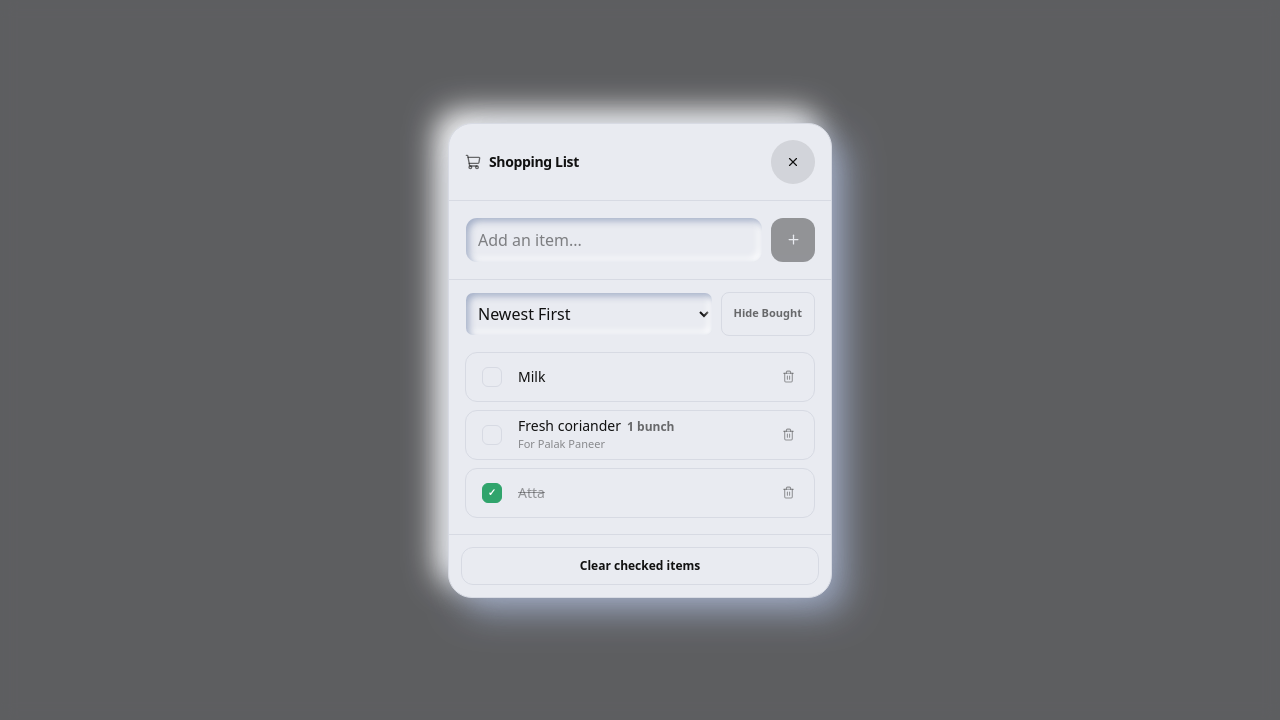
Test: ShoppingListModal — editing › removes an item locally and by id
This screenshot has width=1280, height=720.
expect the text "Milk" is shown: met, box [518,366,545,386]
Click the button named "Remove item" in the row of "Milk". click: (788, 376)
box: [766,354,810,398]
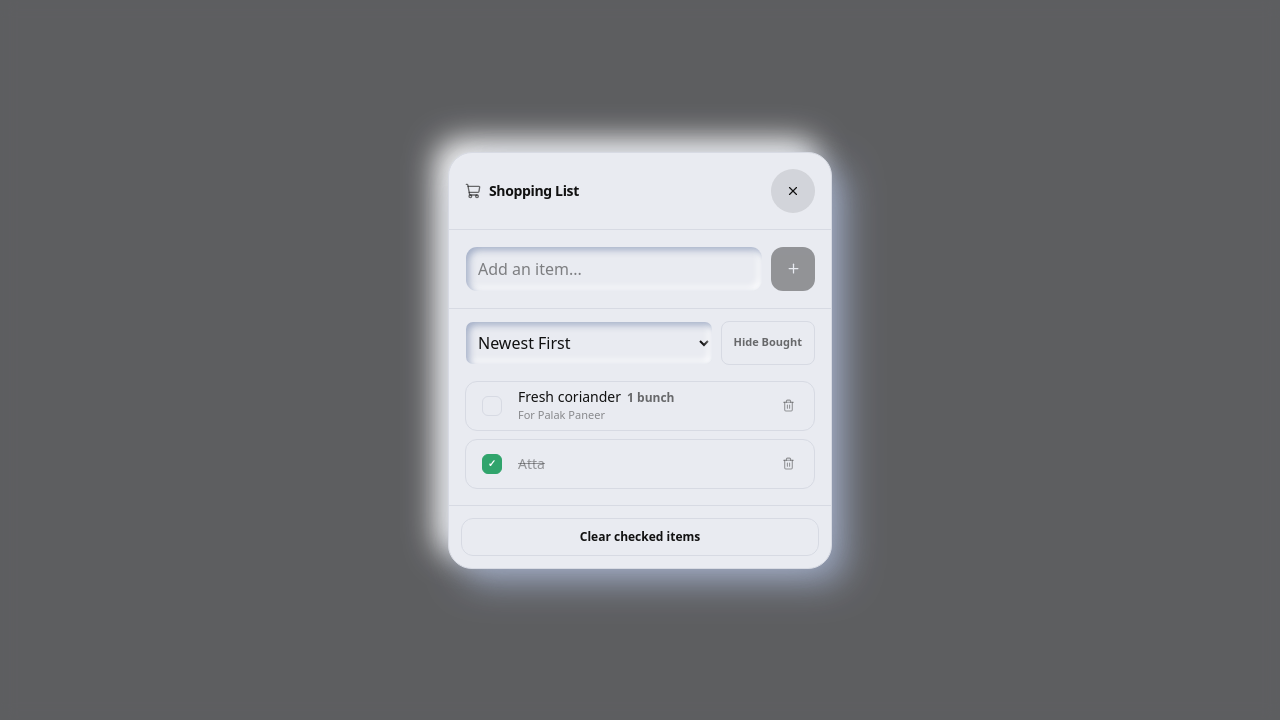
expect the text "Milk" is gone: met
